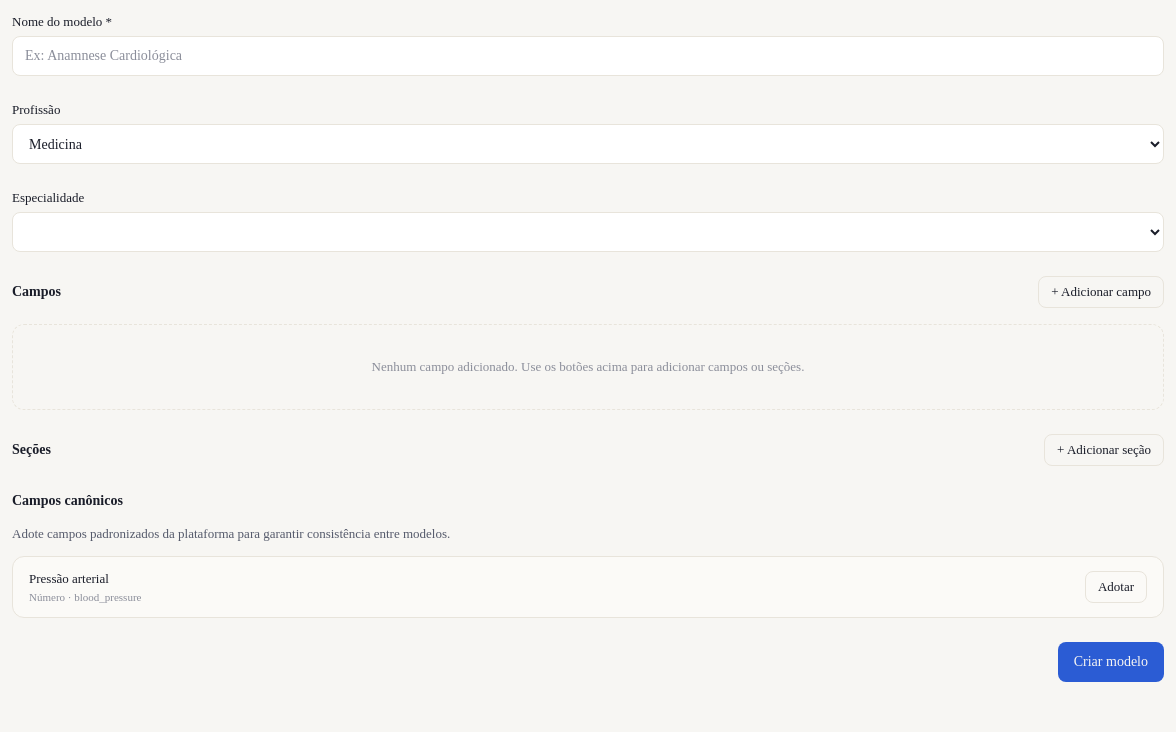
Test: TemplateForm (integration) › create mode › adopts canonical field on button click
The image size is (1176, 732).
What coordinates should you click on to do the following:
click the button with test id "canonical-field-picker-adopt-cf-uuid-1"
I would click on:
 (1116, 587)
Its box is left=1085, top=571, right=1147, bottom=603.
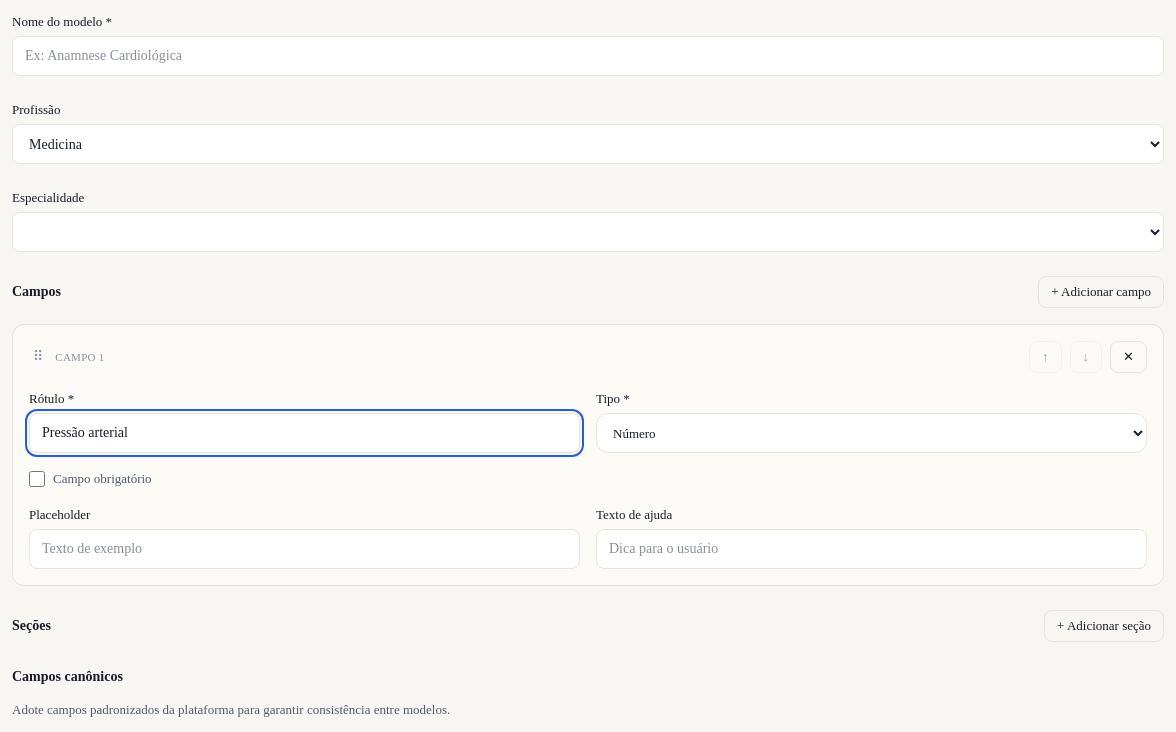
expect the element with test id "field-editor-0" is shown: met, box left=12, top=324, right=1164, bottom=586
expect the field with test id "field-editor-label-0" holds "Pressão arterial": met, box left=29, top=413, right=580, bottom=453
